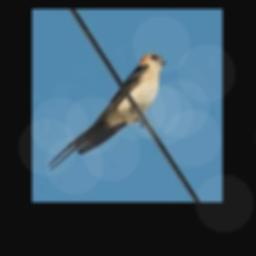Swallow: (48, 53, 167, 171)
